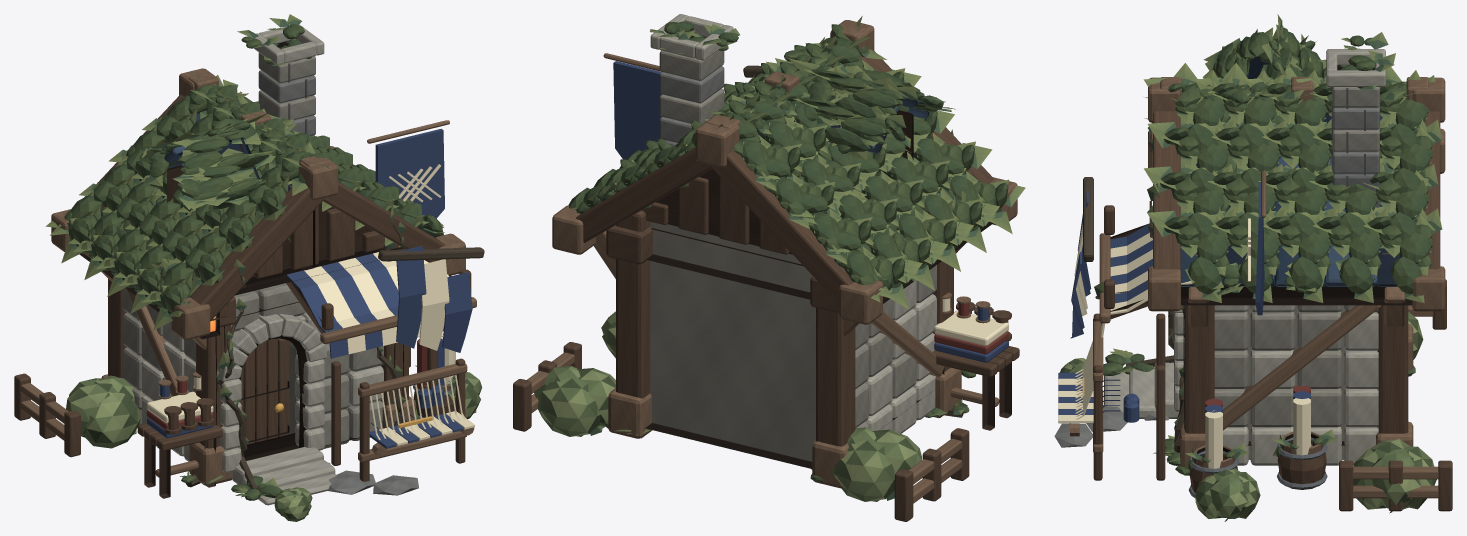
Rendered from weaver.glb.
The picture shows the model from 3 angles, left to right: view 1: azimuth 30°, elevation 25°; view 2: azimuth 150°, elevation 25°; view 3: azimuth 270°, elevation 25°; orthographic projection. The views are drawn at different scales.
Parts seen in each view (by area): view 1: Carved roof verge, Cloth heraldic banner, Carved roof verge.002, Leaf cluster.004, Woodland long draped dyed cloth, Woodland long draped dyed cloth.001, Corner upright, Woodland long draped dyed cloth.002, Canvas canopy stripe.002, Canvas canopy stripe.001, Canvas canopy stripe.003, Limestone entrance step.002 (+58 smaller); view 2: Cottage walls, Corner upright.003, Corner upright.001, Carved roof verge.001, Cloth heraldic banner, Carved roof verge.003, Leaf cluster.007, Leaf cluster.011, Projecting timber footing.003, Timber gable.001, Chunky roof joinery.004, Gable vertical board.008 (+42 smaller); view 3: Corner upright.003, Side wall diagonal.001, Corner upright.002, Roof eave.001, Carved roof verge.002, Side limestone block.027, Side limestone block.011, Chunky roof joinery.002, Open barrel staves.002, Side limestone block.021, Side limestone block.015, Side limestone block.023 (+90 smaller).
Part boxes in pixels (<box>): Carved roof verge: <box>189,187,323,320</box>; Cloth heraldic banner: <box>375,128,444,218</box>; Carved roof verge.002: <box>323,181,444,262</box>; Leaf cluster.004: <box>83,392,141,448</box>; Woodland long draped dyed cloth: <box>396,246,426,348</box>; Woodland long draped dyed cloth.001: <box>419,259,449,350</box>; Corner upright: <box>196,325,230,448</box>; Woodland long draped dyed cloth.002: <box>442,272,472,352</box>; Canvas canopy stripe.002: <box>321,262,382,349</box>; Canvas canopy stripe.001: <box>304,266,365,354</box>; Canvas canopy stripe.003: <box>338,258,397,345</box>; Limestone entrance step.002: <box>232,447,323,484</box>; Cottage walls: <box>650,221,815,461</box>; Corner upright.003: <box>616,210,650,398</box>; Corner upright.001: <box>816,308,855,446</box>; Carved roof verge.001: <box>711,151,853,303</box>; Cloth heraldic banner: <box>613,61,661,159</box>; Carved roof verge.003: <box>575,147,712,242</box>; Leaf cluster.007: <box>832,440,894,501</box>; Leaf cluster.011: <box>537,378,600,436</box>; Projecting timber footing.003: <box>608,388,652,438</box>; Timber gable.001: <box>655,169,792,254</box>; Chunky roof joinery.004: <box>839,280,882,324</box>; Gable vertical board.008: <box>678,177,708,234</box>; Corner upright.003: <box>1378,253,1408,433</box>; Side wall diagonal.001: <box>1223,305,1381,430</box>; Corner upright.002: <box>1185,253,1214,433</box>; Roof eave.001: <box>1181,284,1412,305</box>; Carved roof verge.002: <box>1153,111,1180,270</box>; Side limestone block.027: <box>1250,312,1295,350</box>; Side limestone block.011: <box>1250,388,1293,427</box>; Chunky roof joinery.002: <box>1148,266,1180,311</box>; Open barrel staves.002: <box>1277,438,1326,489</box>; Side limestone block.021: <box>1297,350,1341,388</box>; Side limestone block.015: <box>1344,388,1378,427</box>; Side limestone block.023: <box>1344,350,1378,388</box>.
Size of the model in its own units: 4.25 by 4.12 by 3.61.
Materials: 44 (33 with a texture image).
